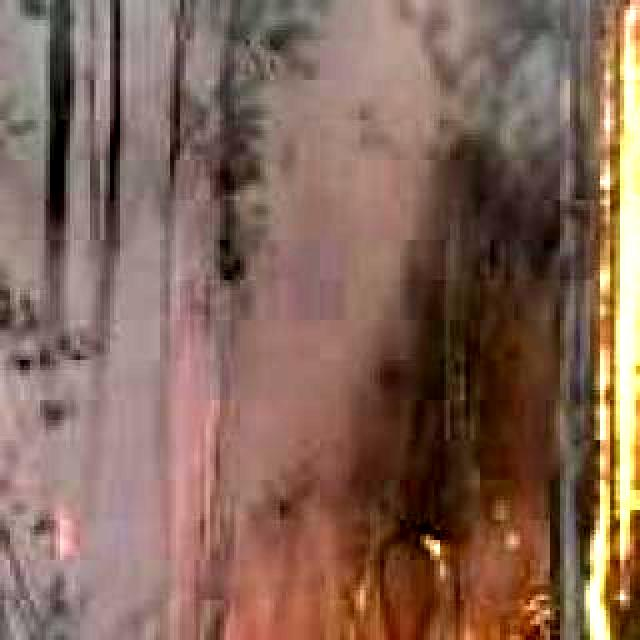fire: (606, 0, 640, 640)
